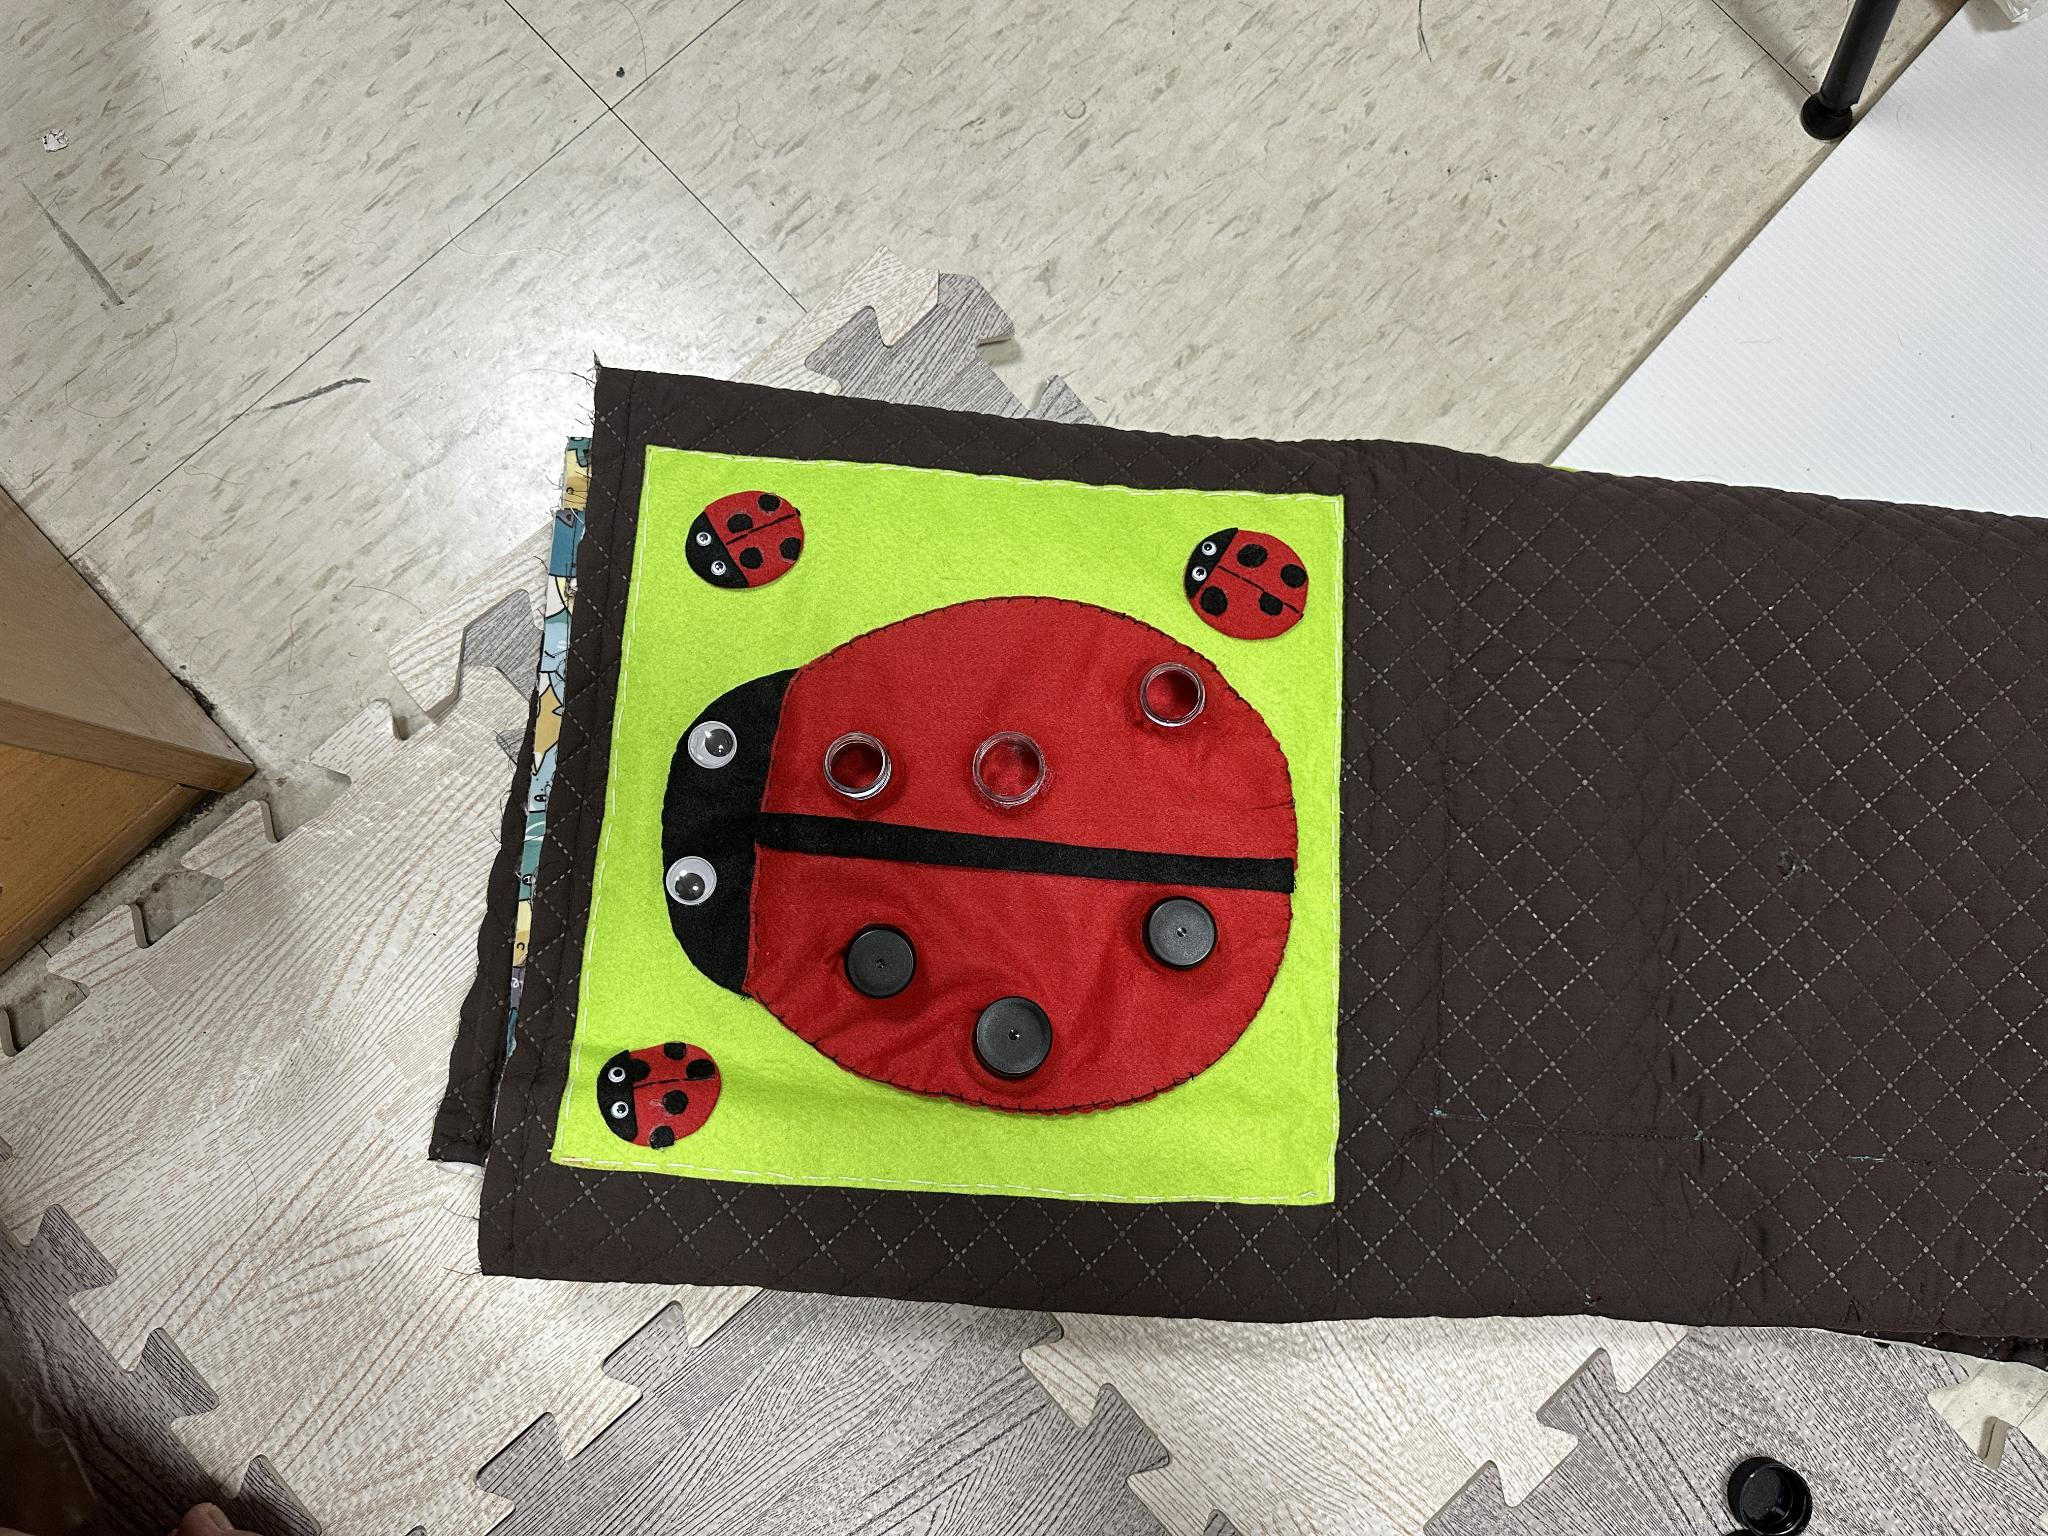cap_ok: (950, 973, 1080, 1096), (816, 905, 947, 1016), (1126, 884, 1238, 994)
